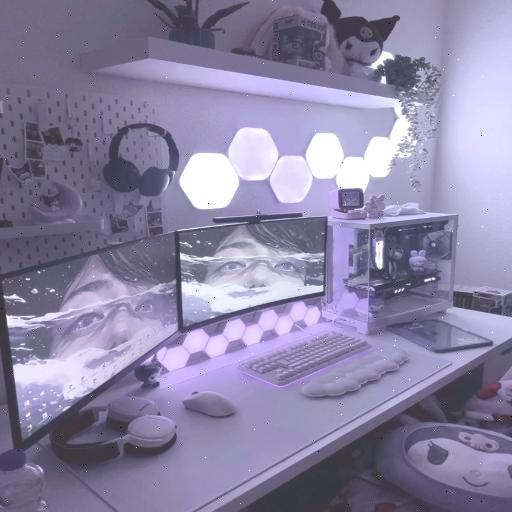computer case: (323, 213, 458, 334)
monitor: (1, 233, 177, 446), (177, 217, 327, 329)
